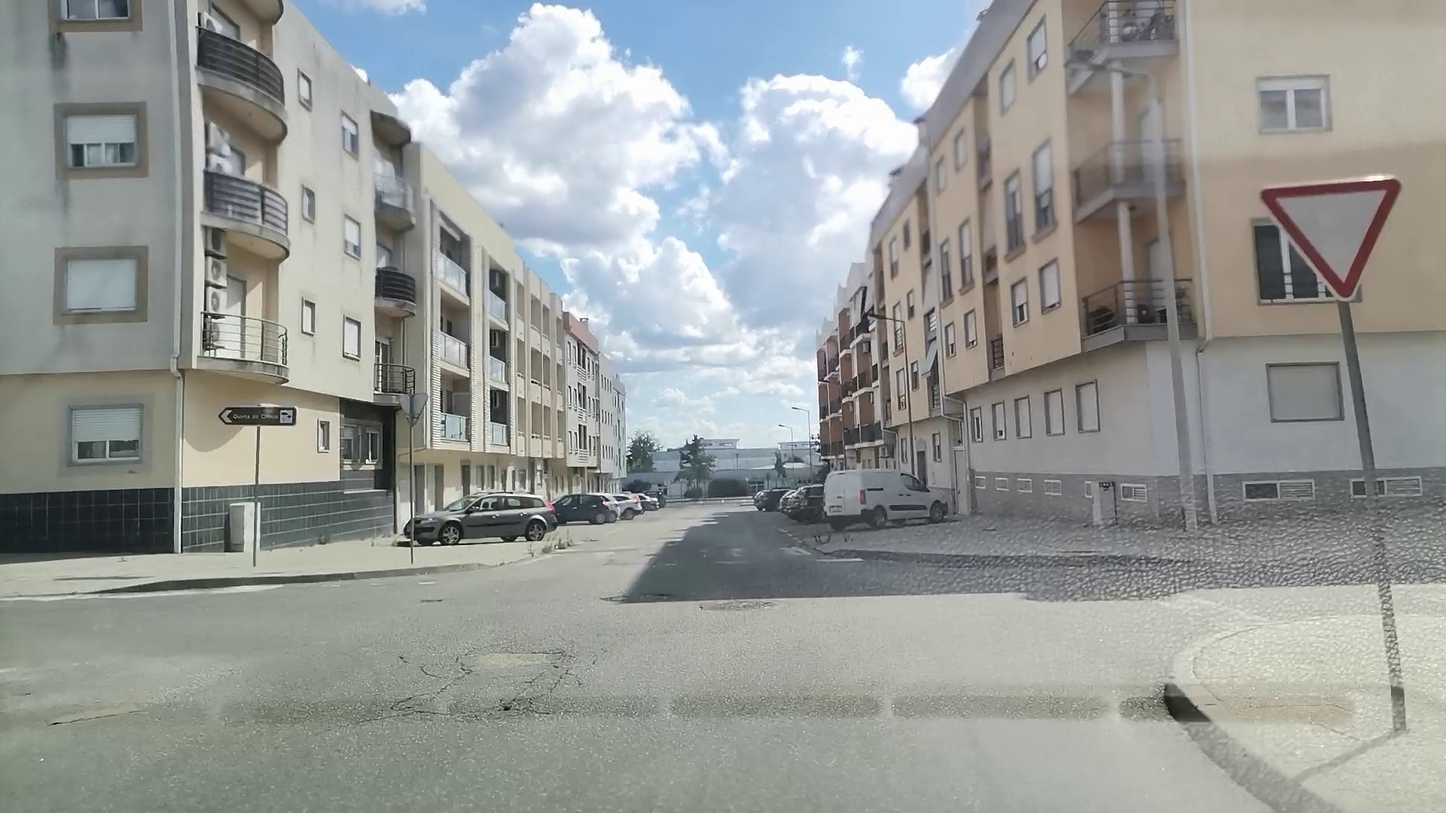Stairs: (512, 543, 811, 567)
